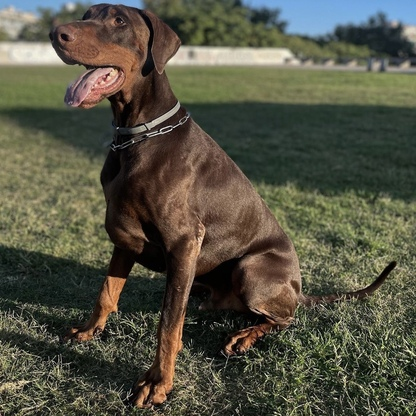doberman: (49, 4, 306, 403)
